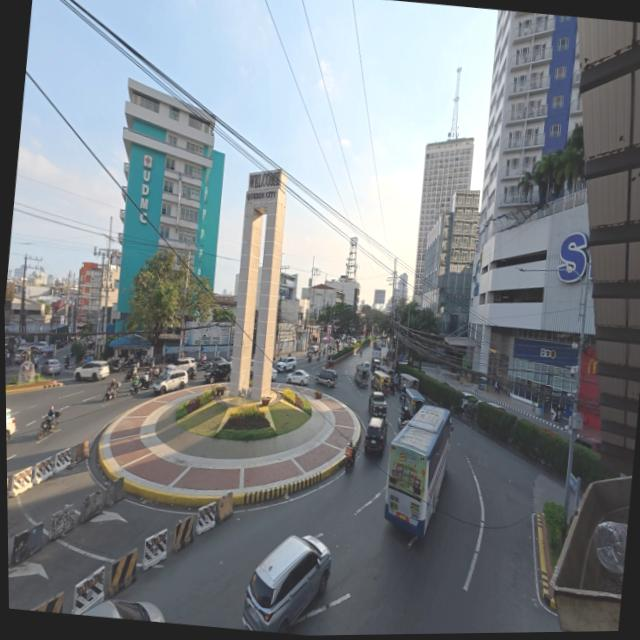Jeepneys: (398, 388, 426, 428), (372, 370, 391, 395), (355, 364, 370, 387), (399, 374, 419, 390)
bus: (385, 405, 451, 536), (372, 337, 383, 358)
car: (242, 536, 331, 633), (85, 599, 165, 622), (153, 368, 188, 394), (365, 417, 387, 453), (75, 361, 110, 381), (205, 362, 232, 383), (166, 358, 197, 374), (576, 436, 601, 453), (316, 369, 338, 387), (287, 370, 309, 385), (6, 408, 15, 444), (41, 359, 61, 375), (276, 357, 297, 372), (461, 392, 479, 408), (15, 347, 31, 362), (488, 402, 508, 413), (32, 340, 48, 353), (371, 358, 381, 372), (307, 345, 319, 356), (55, 339, 67, 348), (272, 366, 277, 380), (364, 362, 371, 371)
motorcycle: (38, 411, 60, 440), (345, 445, 356, 472), (104, 383, 119, 402), (109, 359, 123, 373), (140, 373, 151, 389), (124, 370, 135, 382), (128, 383, 139, 395), (153, 368, 163, 381), (196, 358, 207, 369), (188, 368, 197, 380), (390, 382, 396, 394), (64, 357, 69, 369), (360, 350, 362, 356)
trucks: (369, 391, 387, 418)
